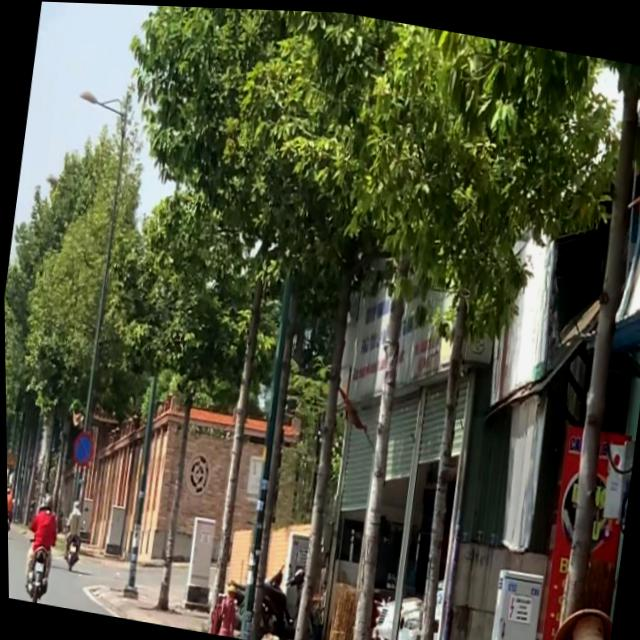Cam do xe: (67, 425, 100, 472)
